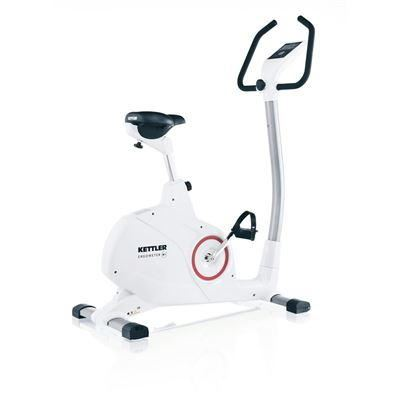gym_bike: (80, 17, 314, 356)
